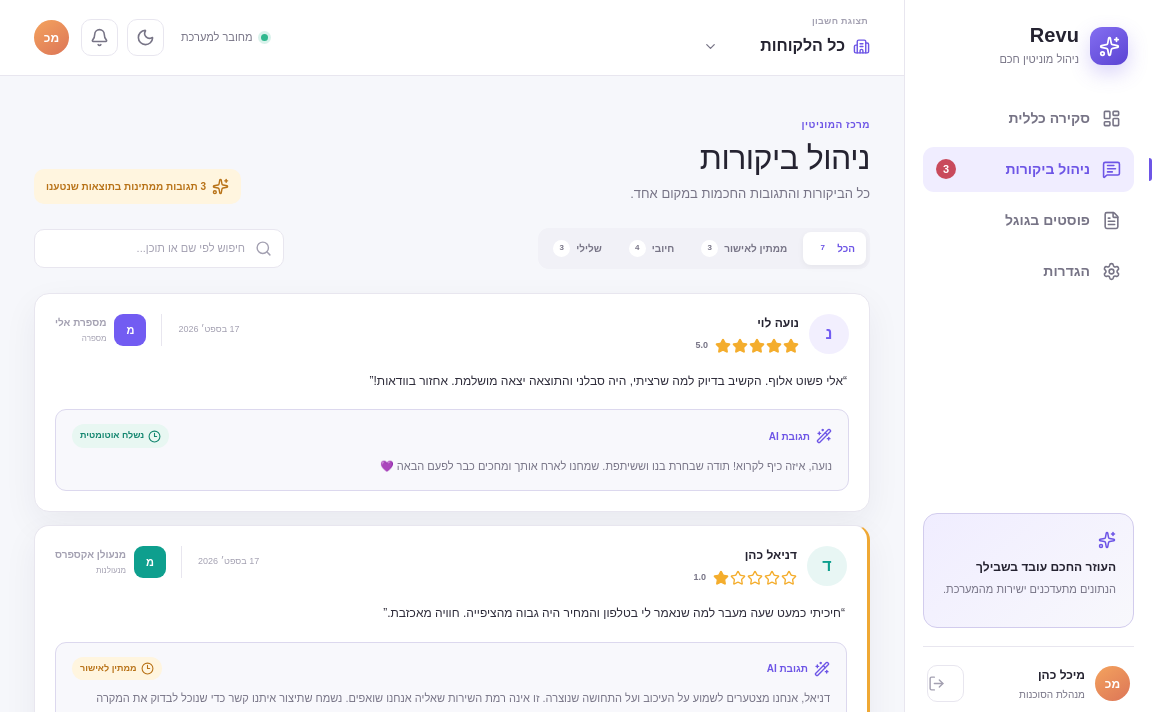
Scenario: dashboard routing and interactions › stores review filters and search in query parameters
Expected: the heading "ניהול ביקורות" is shown, [700,140,870,176]
Click the tab "ממתין לאישור 3" at [744, 248], box [690,232,798,265]
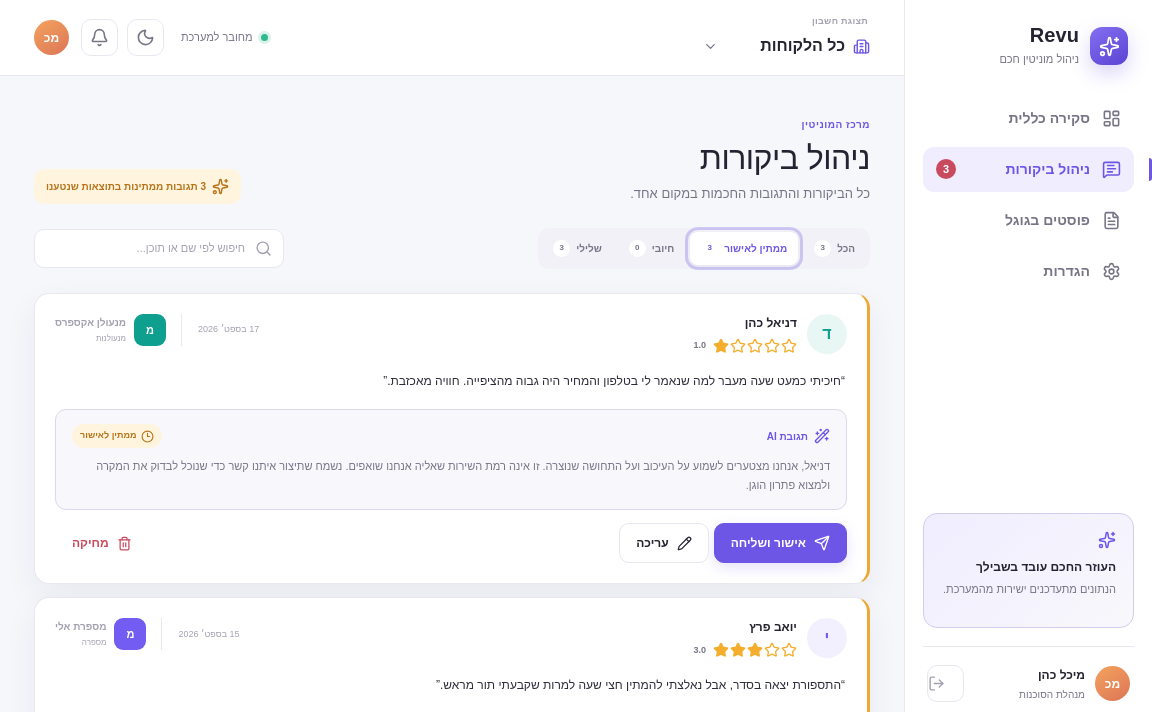
Type "יואב" into the field with placeholder "חיפוש לפי שם או תוכן..." at [159, 248], box [34,229,284,268]
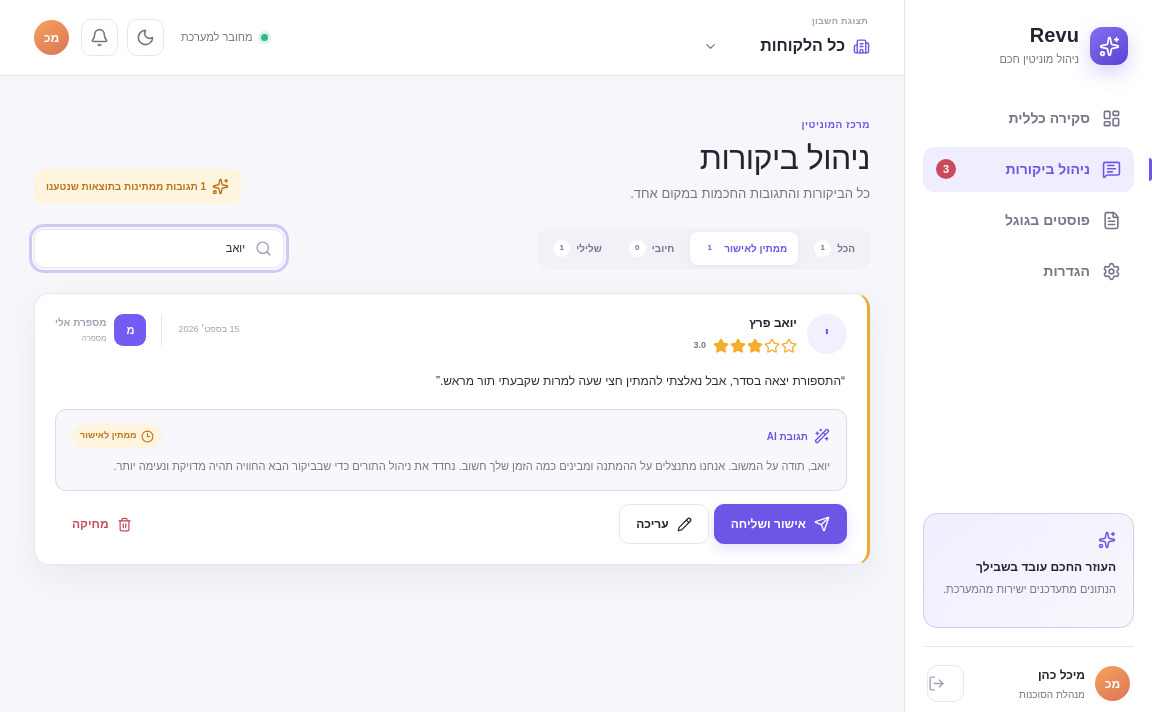
Expected: the text "יואב פרץ" is shown, [749,316,797,330]
Expected: the text "דניאל כהן" is gone
